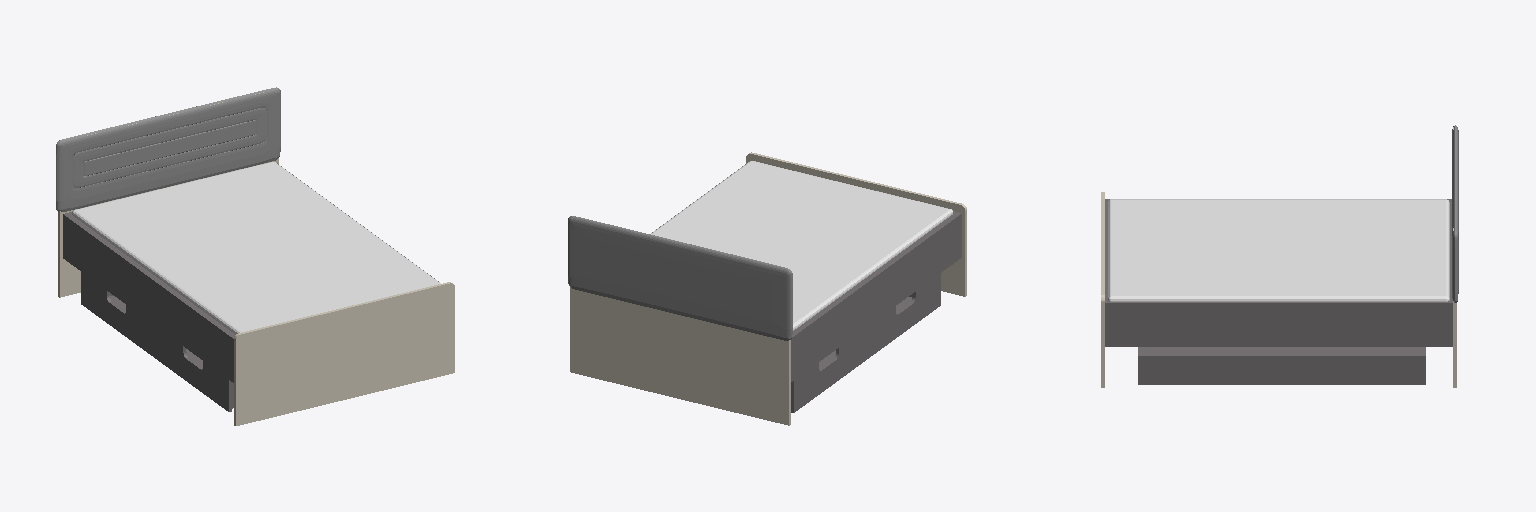
Rendered from 2pir_lozko2os_plaski_szczyt_140_2.obj.
The picture shows the model from 3 angles: view 1: azimuth 30°, elevation 25°; view 2: azimuth 150°, elevation 25°; view 3: azimuth 270°, elevation 25°; orthographic projection.
Parts seen in each view (by area): view 1: ChamferBox01, Rectangle16, ChamferBox002, Box02, Rectangle01, Rectangle17; view 2: ChamferBox01, Rectangle17, ChamferBox002, Box02, Rectangle01, Rectangle16; view 3: ChamferBox01, Box02, Box01, ChamferBox002, Rectangle16.
Part boxes in pixels (bbox=[...]): ChamferBox01: bbox=[72, 162, 440, 334]; Rectangle16: bbox=[234, 282, 454, 425]; ChamferBox002: bbox=[56, 87, 280, 211]; Box02: bbox=[63, 163, 438, 382]; Rectangle01: bbox=[81, 272, 231, 411]; Rectangle17: bbox=[58, 90, 278, 297]; ChamferBox01: bbox=[651, 161, 952, 330]; Rectangle17: bbox=[570, 287, 790, 425]; ChamferBox002: bbox=[568, 216, 792, 340]; Box02: bbox=[652, 161, 961, 381]; Rectangle01: bbox=[791, 273, 940, 412]; Rectangle16: bbox=[746, 152, 966, 296]; ChamferBox01: bbox=[1108, 199, 1449, 301]; Box02: bbox=[1105, 199, 1452, 346]; Box01: bbox=[1138, 347, 1425, 384]; ChamferBox002: bbox=[1452, 125, 1458, 302]; Rectangle16: bbox=[1101, 192, 1104, 387].
Bounding box in the file's own units: 149 × 98.94 × 204.